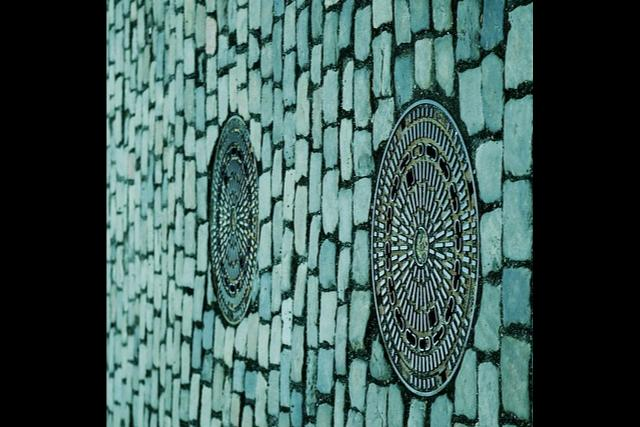Non_Gorille: (111, 0, 533, 427)
